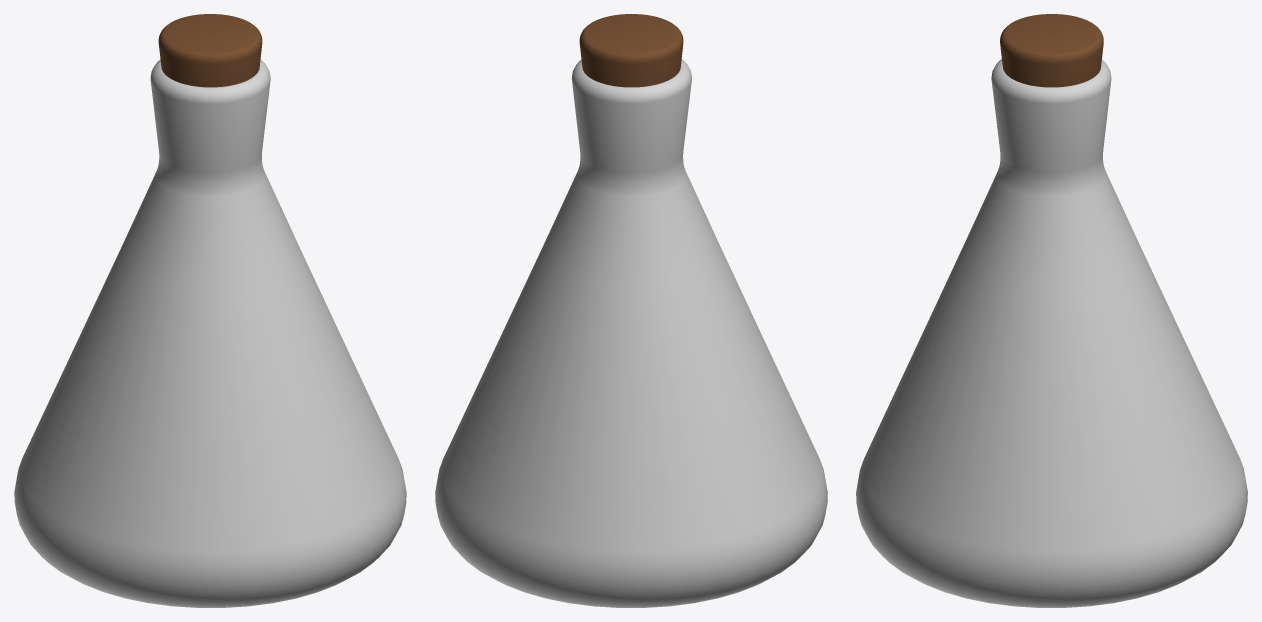
File: Magic.fbx
3 renders of one model, left to right at view 1: azimuth 30°, elevation 25°; view 2: azimuth 150°, elevation 25°; view 3: azimuth 270°, elevation 25°, orthographic.
Visible parts, largest first — view 1: Health_p_tall1; view 2: Health_p_tall1; view 3: Health_p_tall1.
Part boxes in pixels (x1,y1,x2,y2): Health_p_tall1: (14,14,406,607); Health_p_tall1: (435,14,827,607); Health_p_tall1: (856,14,1247,607).
Size of the model in its own units: 26.48 by 37.98 by 26.52.
